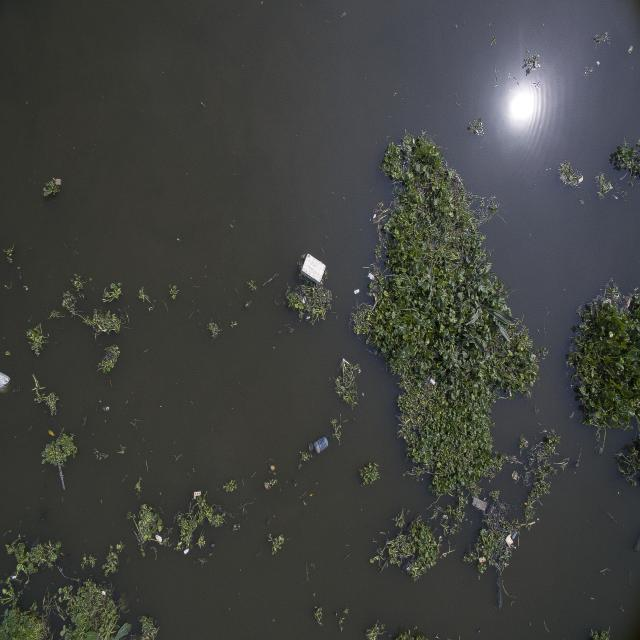plastic: (292, 245, 341, 304), (0, 346, 17, 424), (307, 436, 340, 471), (504, 523, 521, 565)
